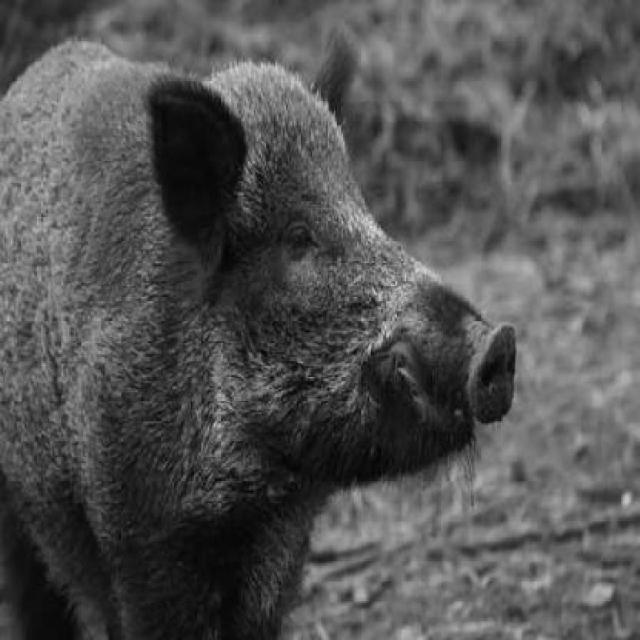wildboar: (0, 14, 528, 640)
